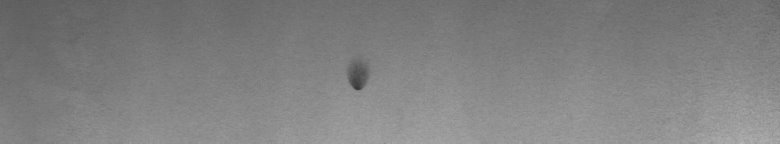fi: (343, 64, 372, 100)
